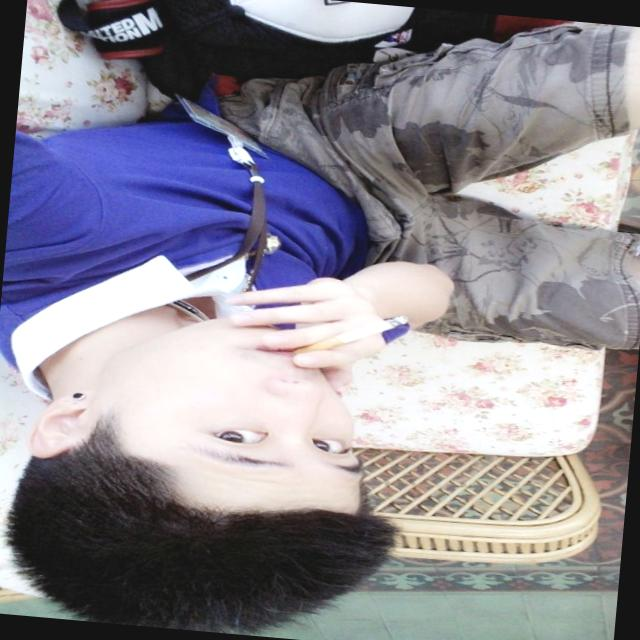smoke: (290, 304, 414, 370)
